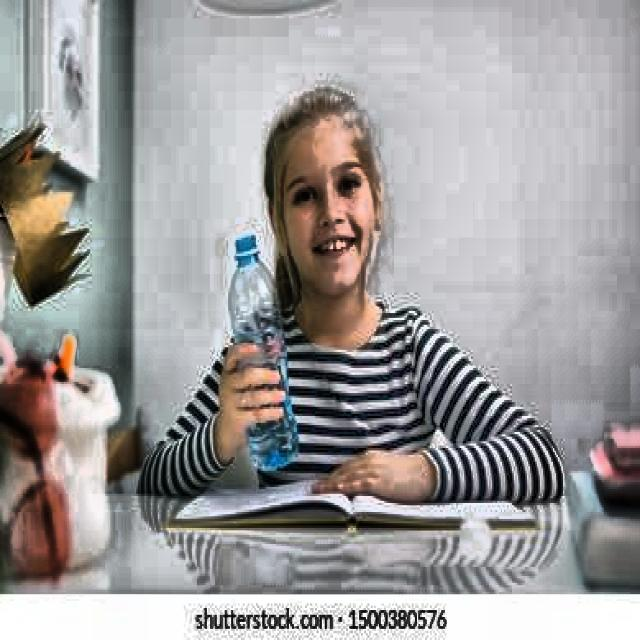Bottles: (225, 228, 301, 479)
